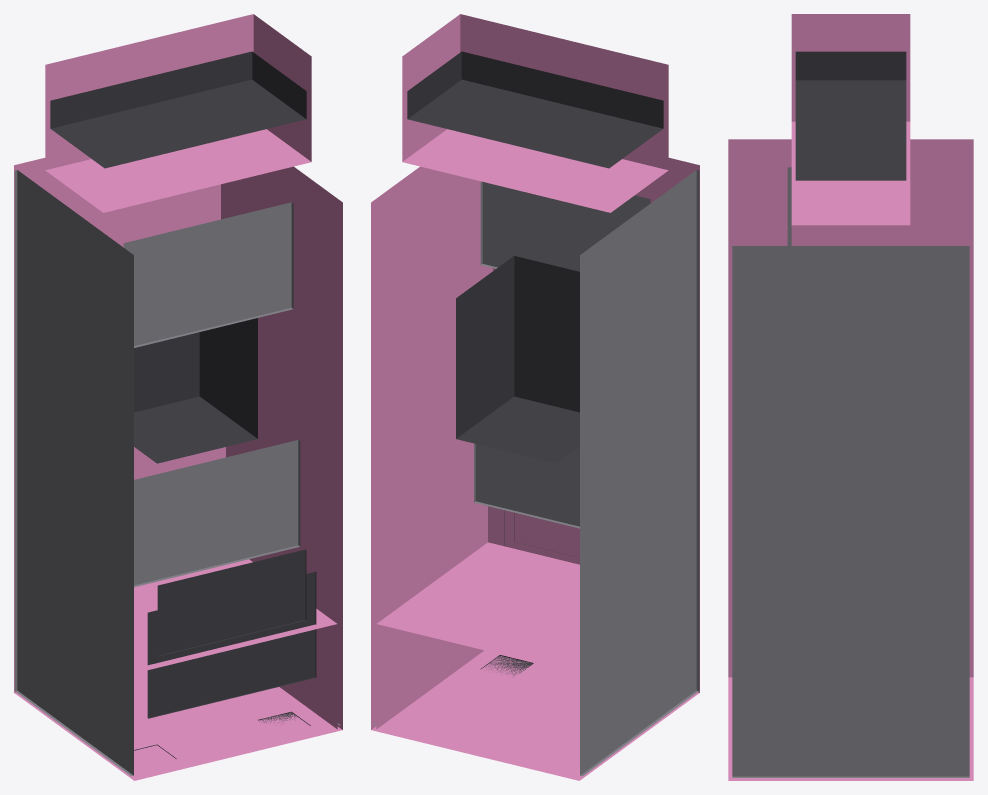
File: cabinet.gltf
3 views of the same model, side by side, from view 1: azimuth 30°, elevation 25°; view 2: azimuth 150°, elevation 25°; view 3: azimuth 270°, elevation 25° (orthographic).
Visible parts, largest first — view 1: cabinet; view 2: cabinet; view 3: cabinet.
Part boxes in pixels (<box>): cabinet: <box>14,14,342,780</box>; cabinet: <box>371,14,699,780</box>; cabinet: <box>728,14,973,780</box>.
Size of the model in its own units: 0.628 by 1.85 by 0.62.
